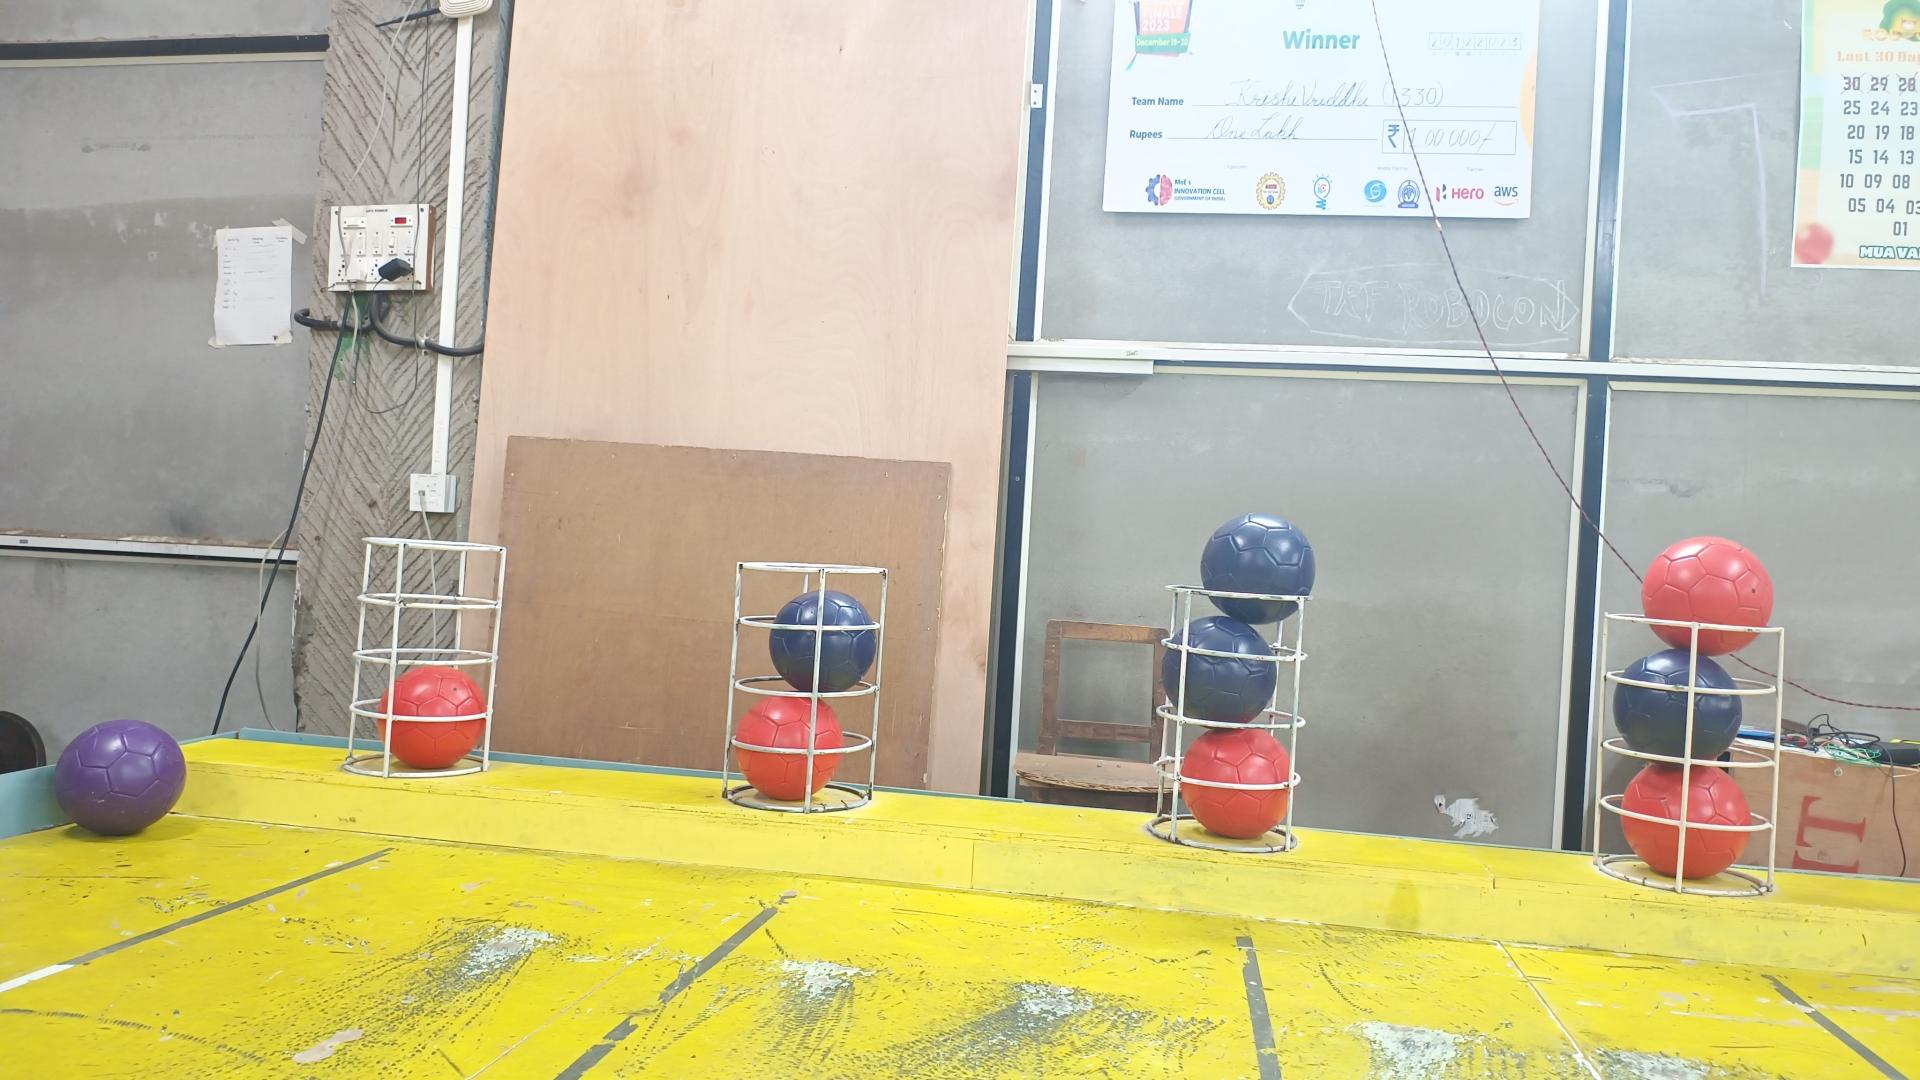dhoka: (1613, 649, 1743, 761), (1200, 514, 1316, 626), (1163, 615, 1279, 724), (769, 588, 877, 694)
laale: (1643, 537, 1774, 657), (1619, 765, 1751, 881), (1182, 728, 1298, 836), (735, 698, 844, 803), (378, 663, 488, 769)
